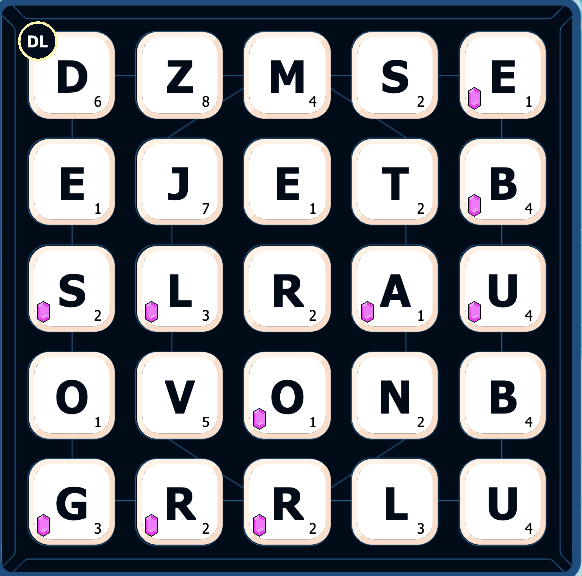A: (374, 266, 416, 310)
B: (483, 370, 523, 421), (485, 162, 521, 206)
D: (49, 54, 92, 99)
DOUBLE: (161, 50, 196, 97)
F: (51, 158, 89, 206), (269, 159, 307, 206), (487, 54, 522, 98)
H: (49, 479, 91, 524)
K: (162, 161, 194, 207)
M: (160, 260, 198, 315), (379, 474, 412, 531)
N: (261, 38, 310, 103)
O: (378, 374, 413, 419)
P: (263, 373, 309, 422), (50, 376, 93, 421)
S: (267, 479, 310, 528), (158, 478, 199, 525), (266, 264, 306, 311)
T: (377, 49, 415, 100), (52, 267, 91, 313)
U: (377, 160, 412, 203)
V: (481, 479, 522, 526), (485, 266, 525, 312)
W: (154, 370, 199, 421)
